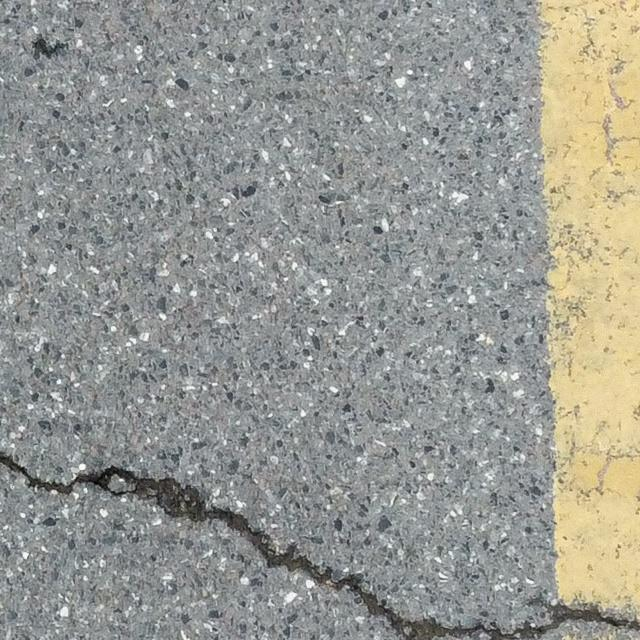TransverseCrack: (1, 452, 640, 640)
